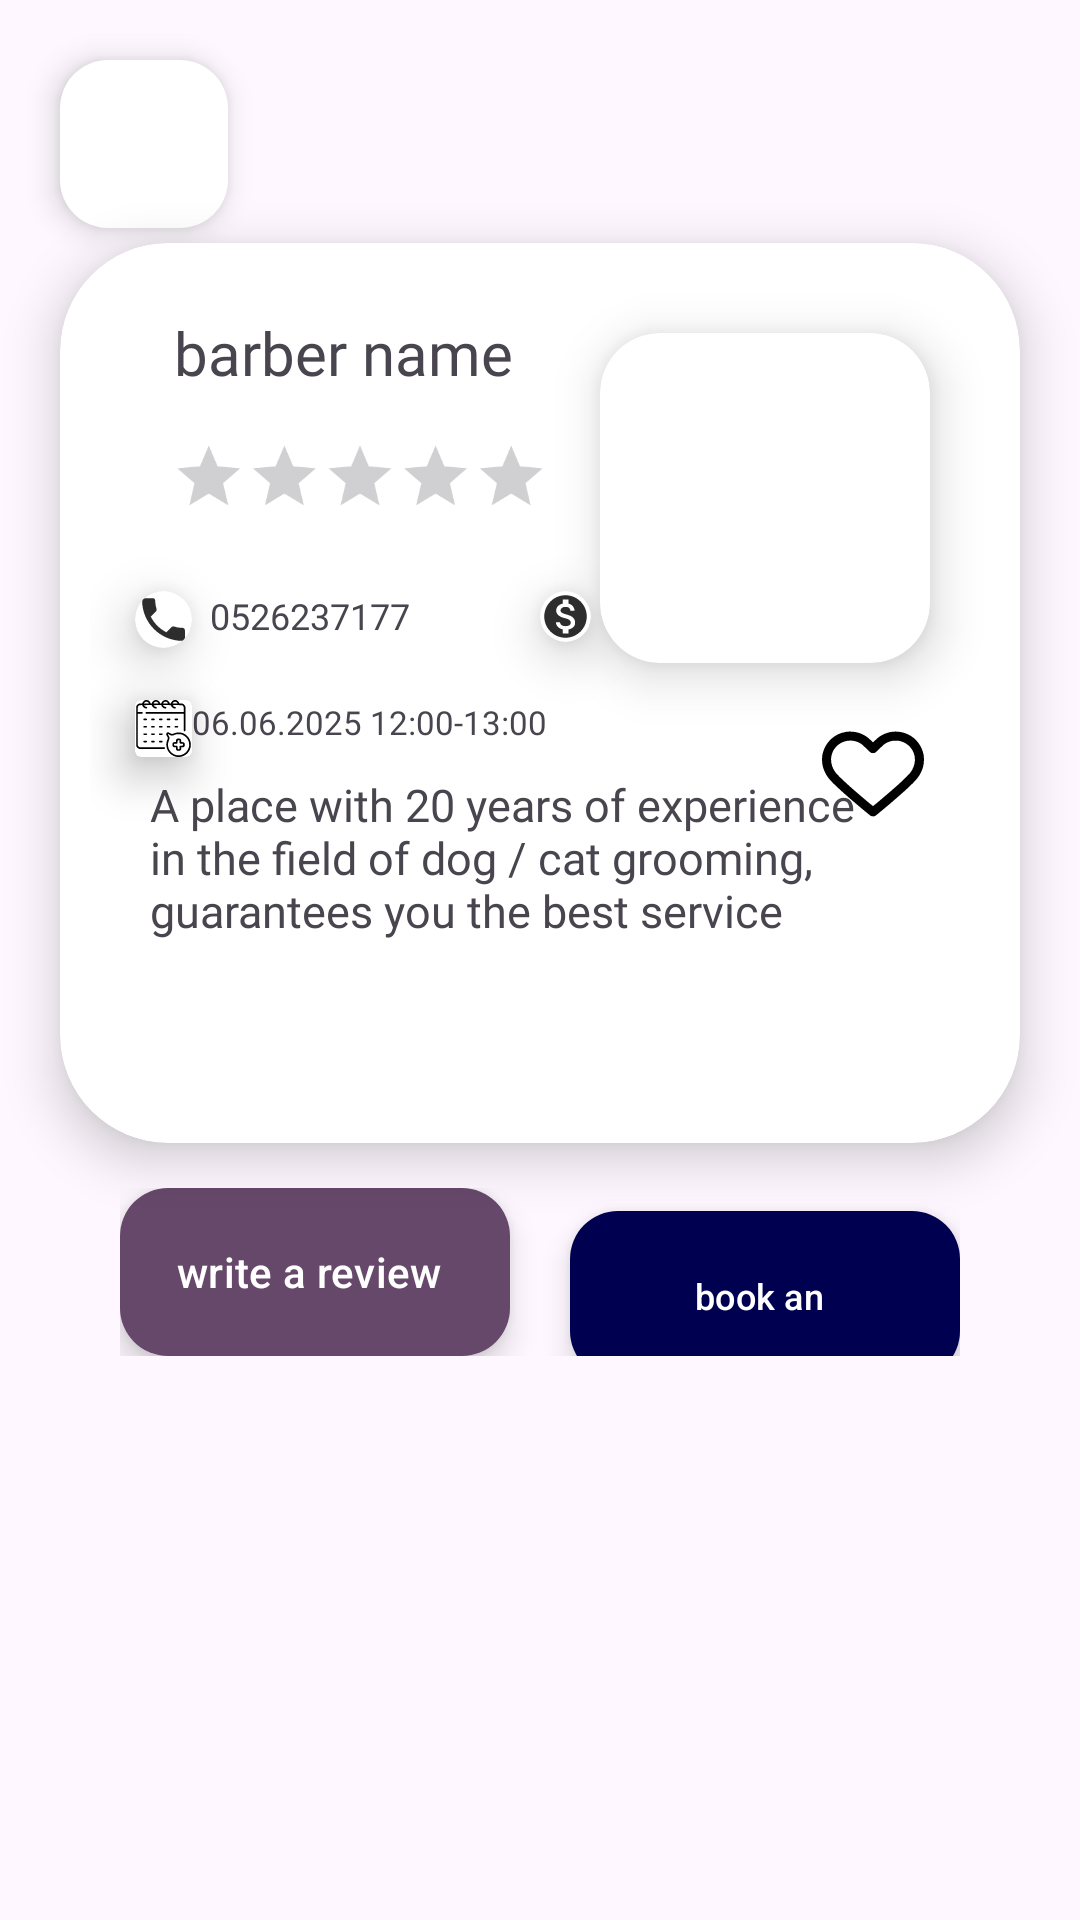

Where icons sit on this 1080w x 1920h app screen, as bbox=[x1, y1, x2, y2]:
dollar: bbox=[544, 595, 587, 638]
heart item empty: bbox=[822, 731, 924, 823]
phone: bbox=[135, 591, 192, 648]
schedule: bbox=[135, 700, 192, 757]
